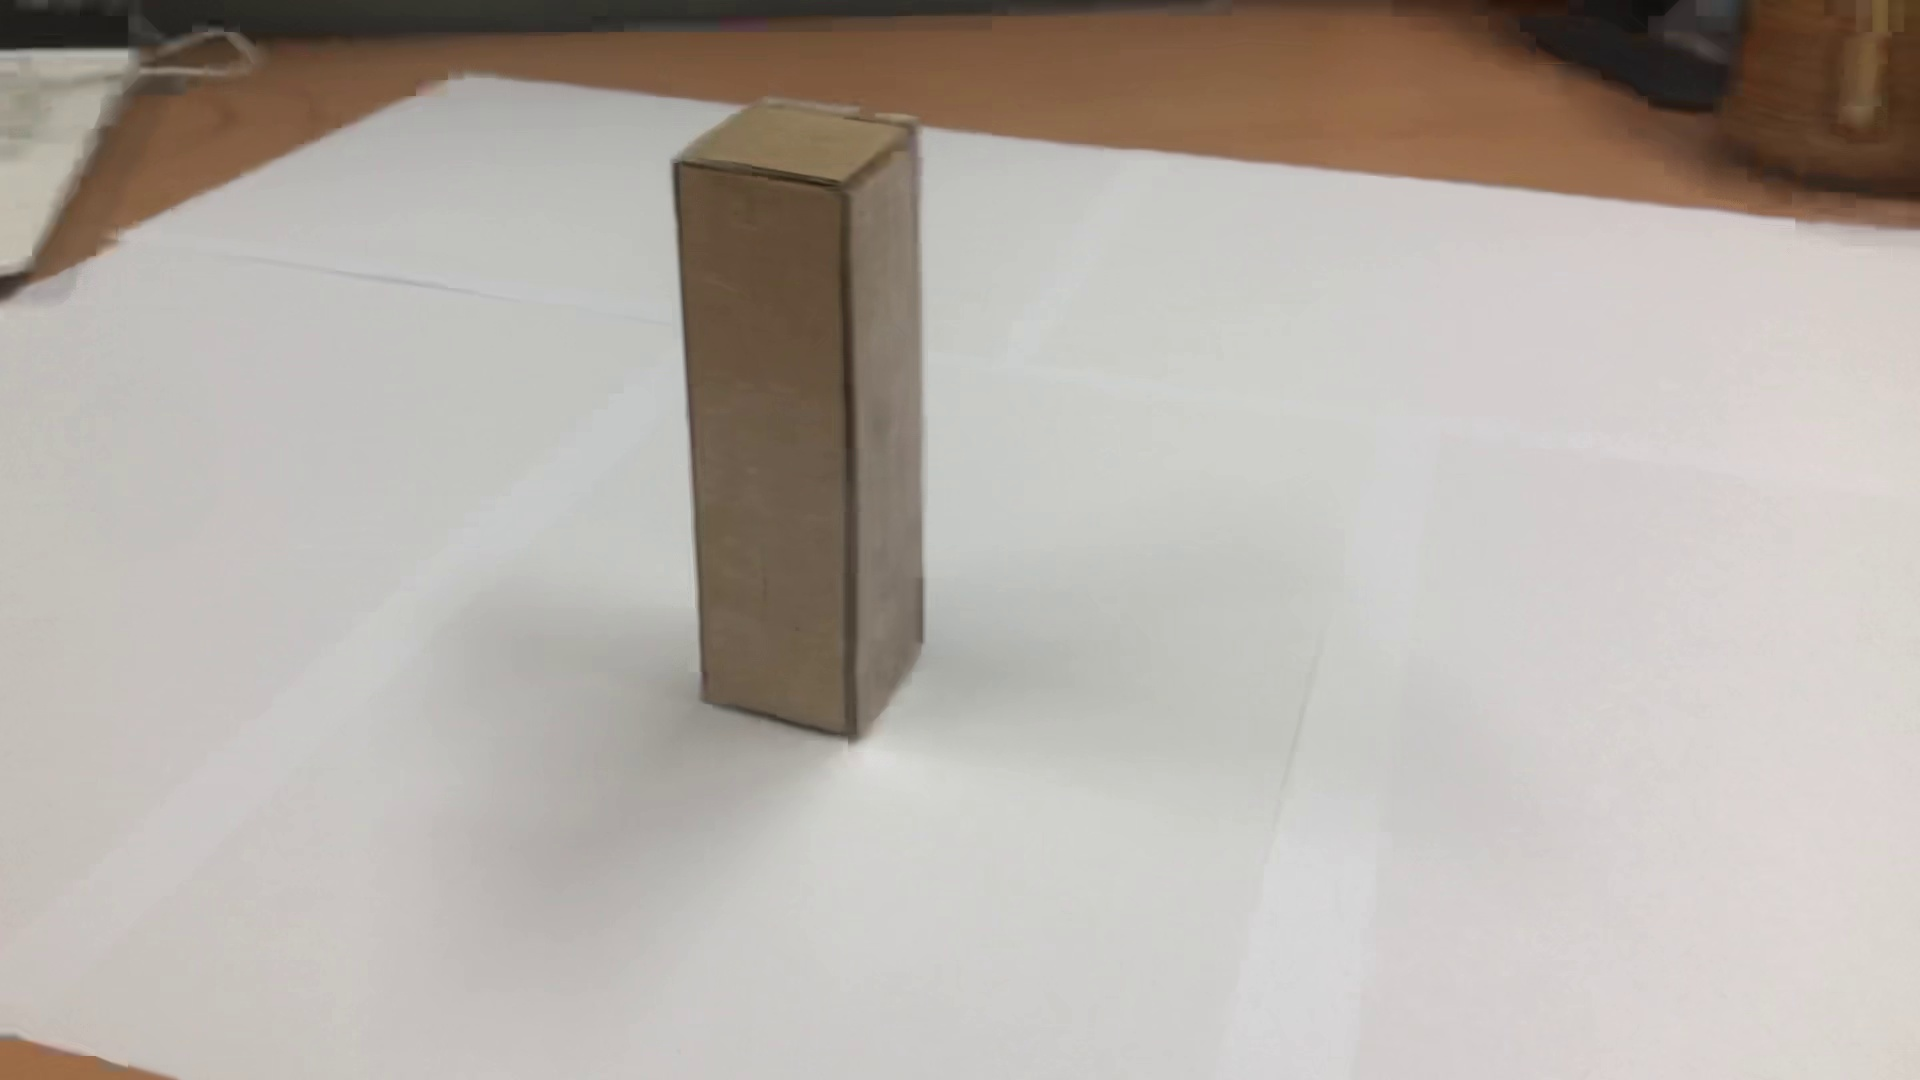box: (644, 88, 988, 764)
